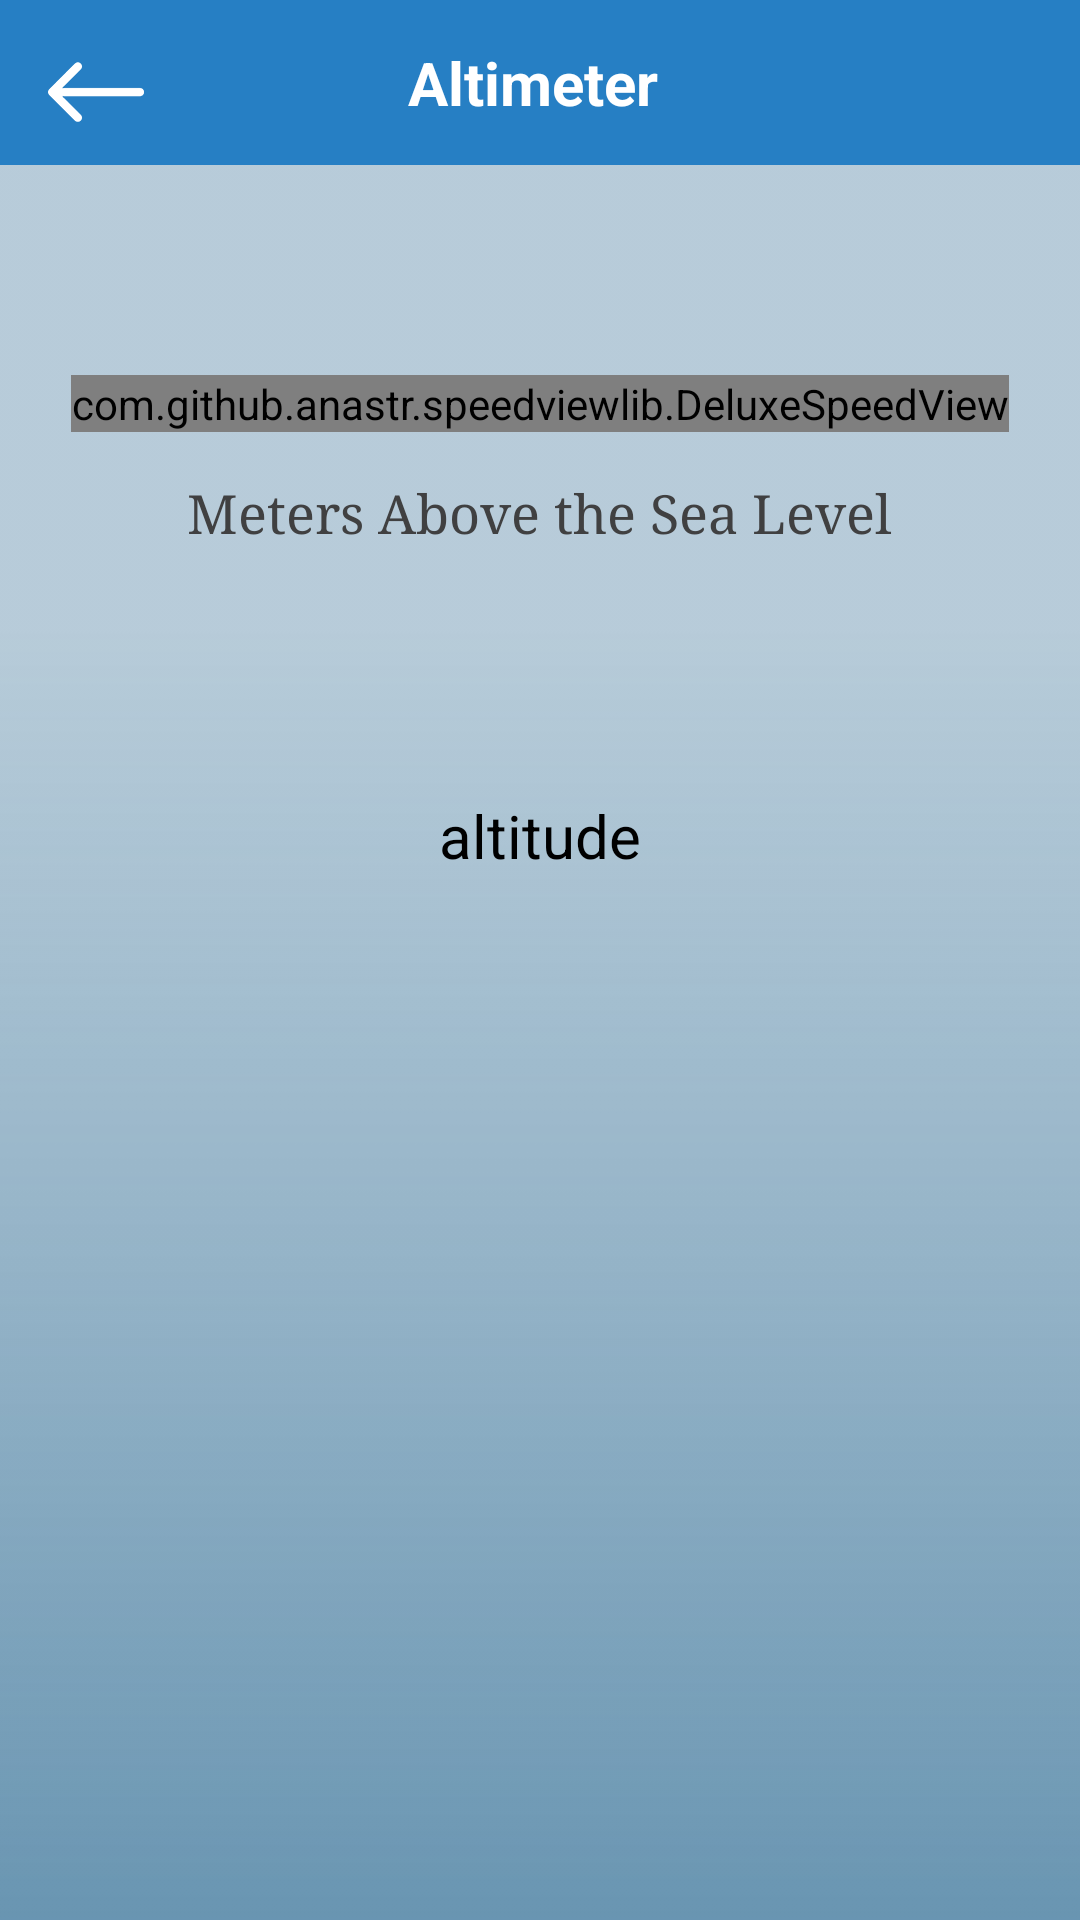

Screen size 1080 x 1920. Icon name, then its box in pixels as BBox(x1, y1, x2, y2):
left arrow: BBox(48, 62, 144, 122)
